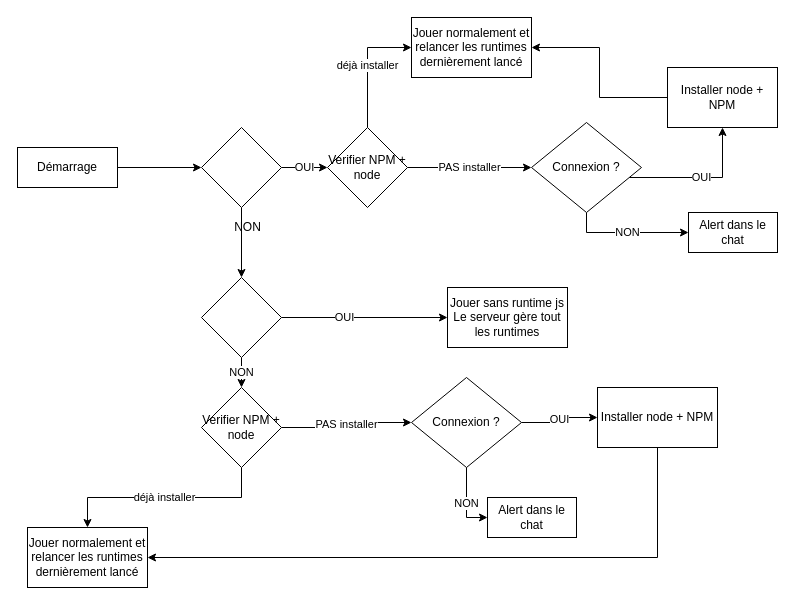
This 795x605 diagram has some shape labels left out. Each missing label, with the centre of its shape:
Connecter serveur: (x=241, y=317)
Serveur ?: (x=241, y=167)
